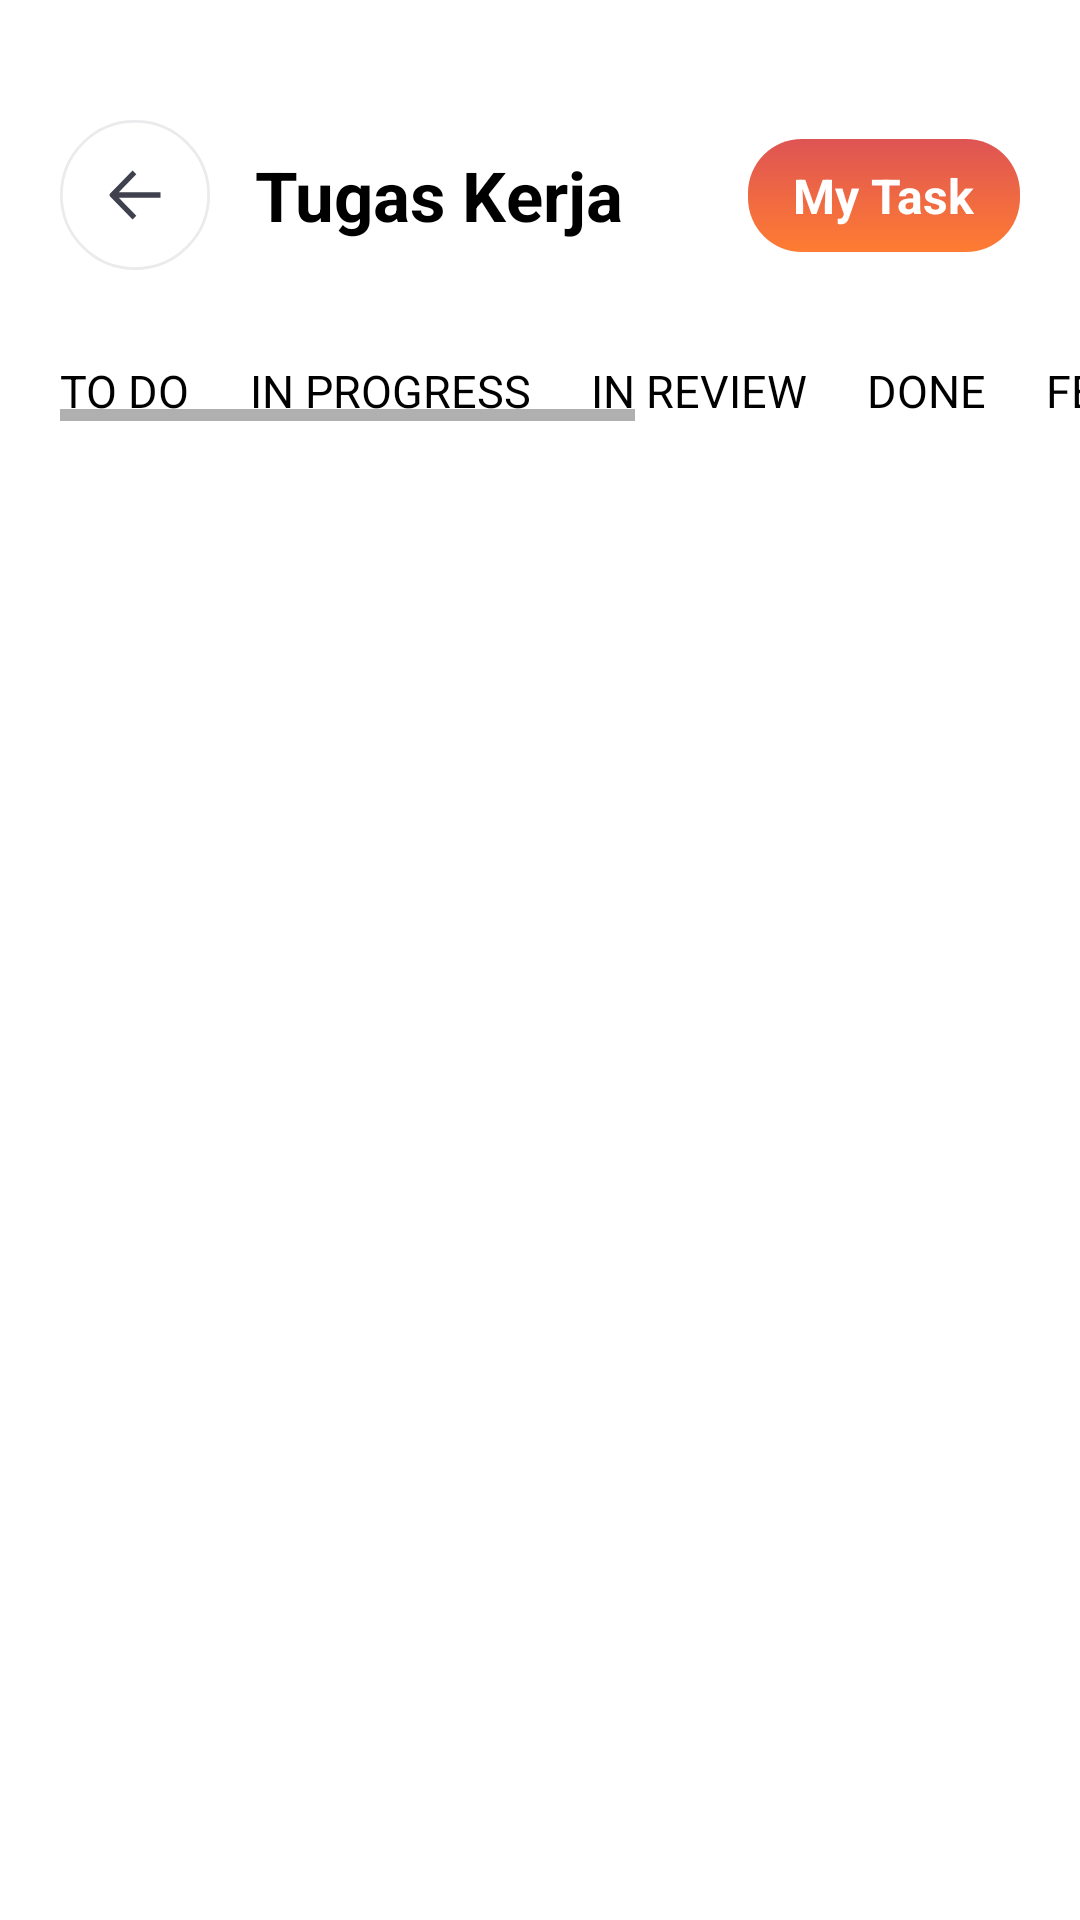

Screen size 1080 × 1920. Icon name, then its center in pixels as [x,y]:
back: [135,195]
